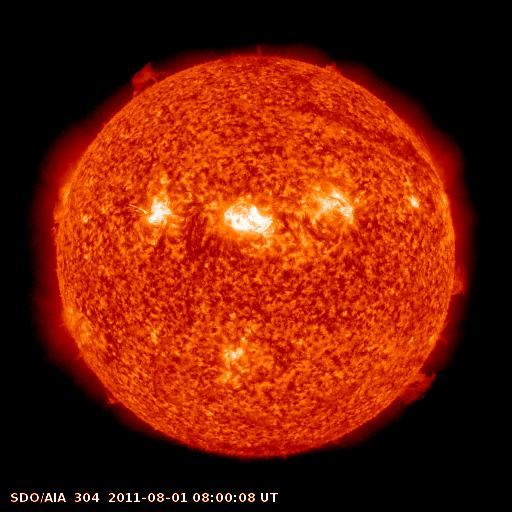prominence: (397, 317, 455, 409), (123, 58, 179, 104), (42, 179, 76, 248), (442, 260, 478, 297)
